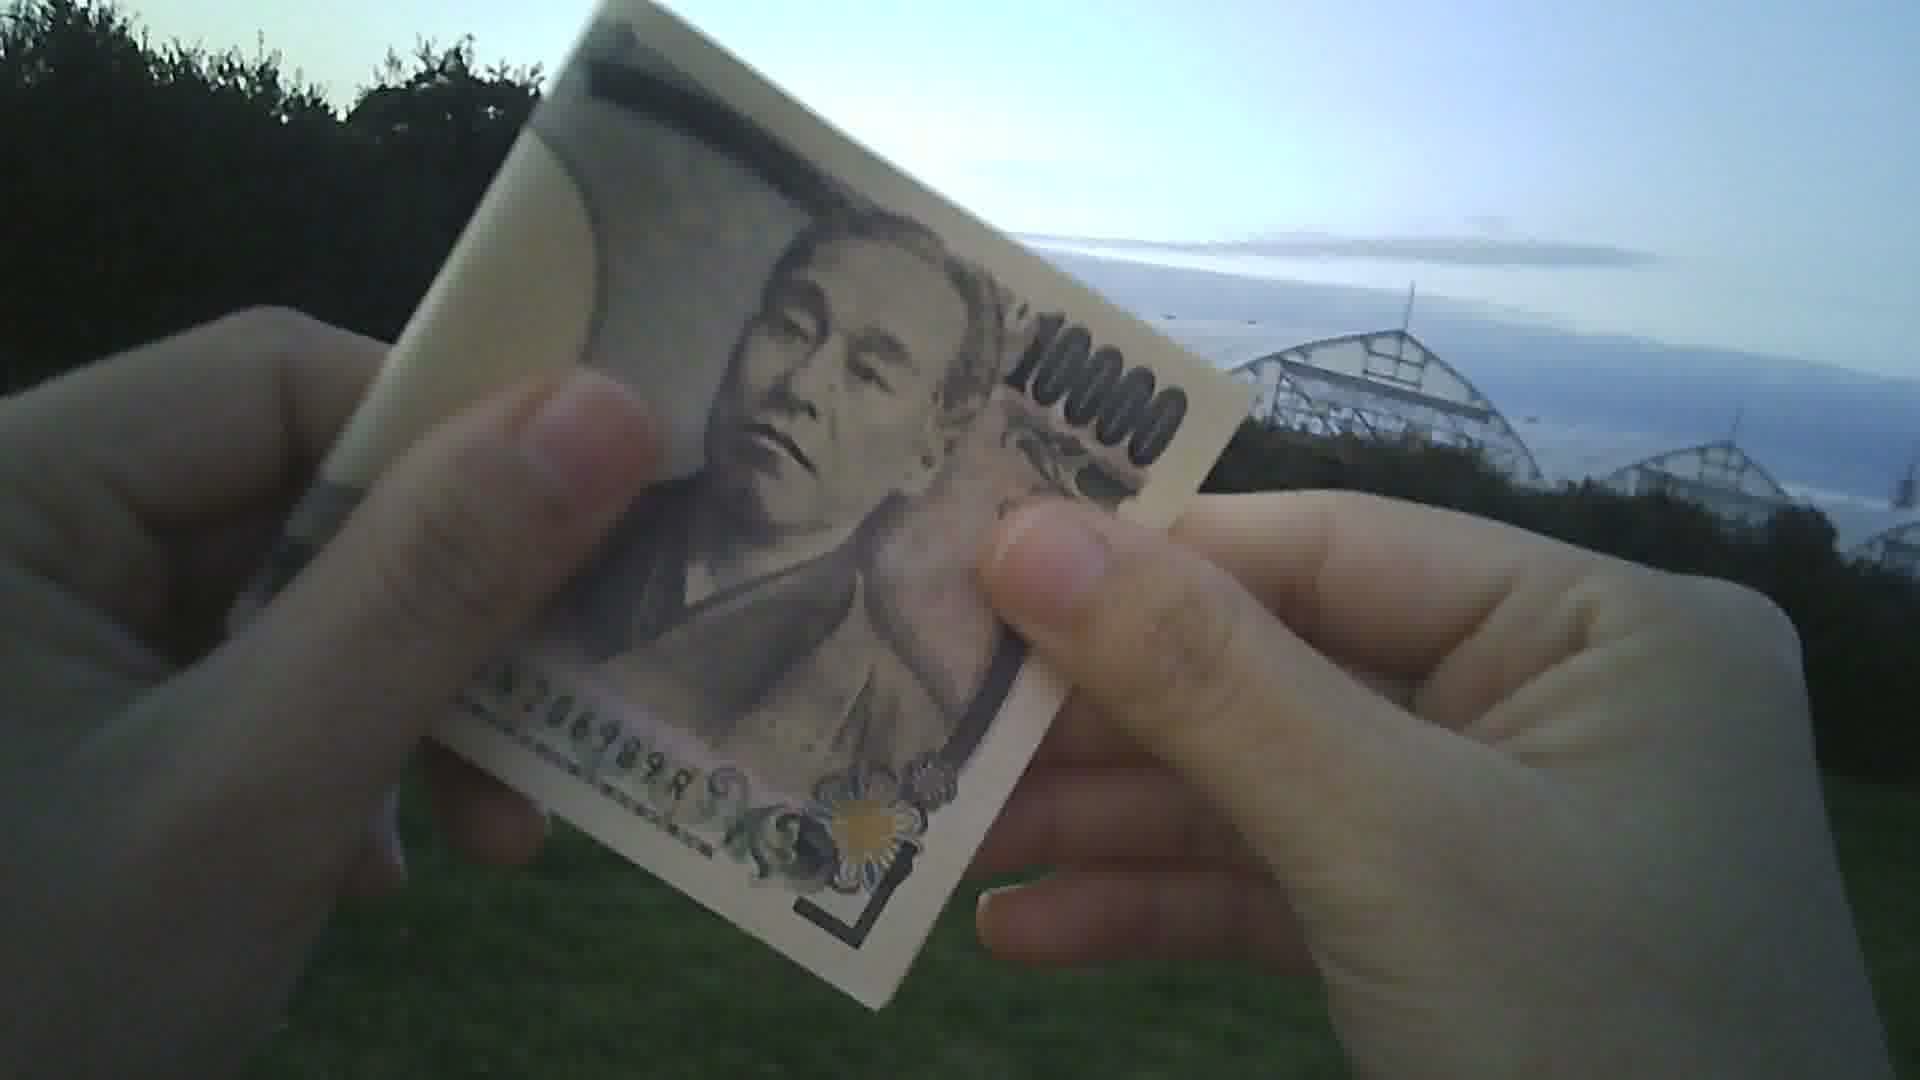10,000 Yen: (247, 3, 1197, 1006)
